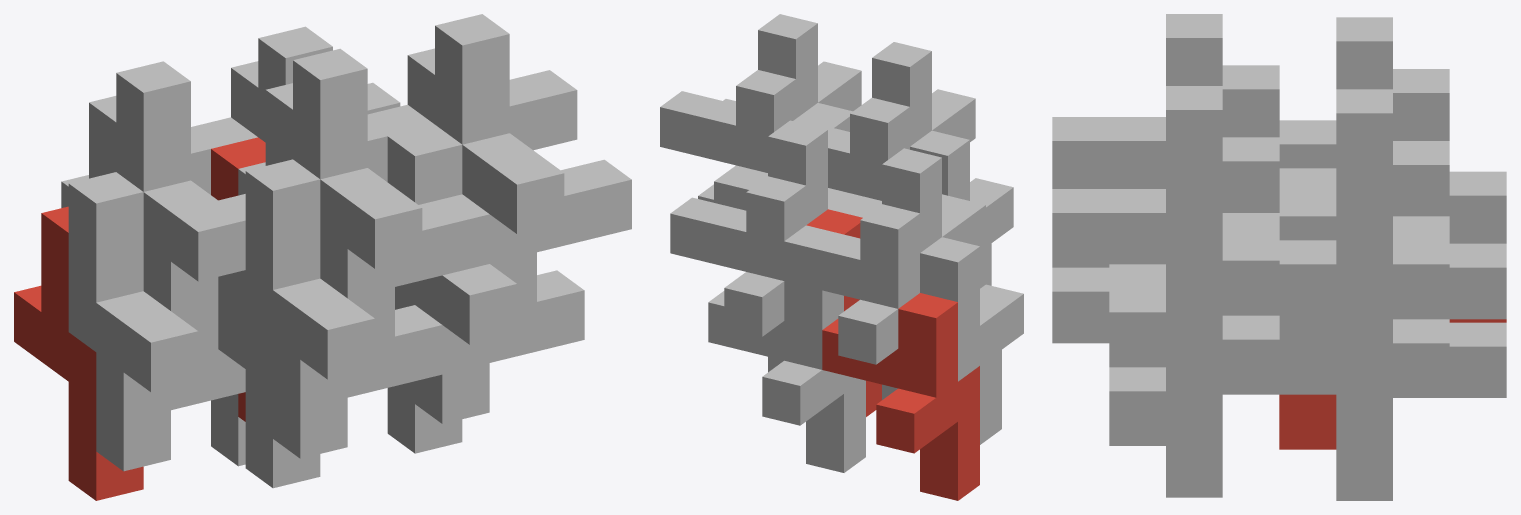
The model's file is tiling.obj.
3 views of the same model, side by side, from view 1: azimuth 30°, elevation 25°; view 2: azimuth 150°, elevation 25°; view 3: azimuth 270°, elevation 25° (orthographic). The views are drawn at different scales.
Visible parts, largest first — view 1: copy_2_domain_2, copy_2_domain_1, copy_2_domain_4, copy_2_domain_8, copy_2_domain_6, copy_2_domain_3, copy_1_domain_1, copy_1_domain_2, copy_1_domain_8, copy_1_domain_4, copy_1_domain_3, copy_1_domain_6 (+4 smaller); view 2: copy_1_domain_1, copy_1_domain_5, copy_1_domain_3, copy_1_domain_7, copy_1_domain_8, copy_2_domain_1, copy_1_domain_4, copy_2_domain_8, copy_2_domain_3, copy_2_domain_4, copy_2_domain_2, copy_2_domain_7 (+2 smaller); view 3: copy_2_domain_8, copy_1_domain_8, copy_1_domain_7, copy_2_domain_7, copy_1_domain_5, copy_2_domain_4, copy_1_domain_6, copy_2_domain_6, copy_1_domain_3, copy_2_domain_3, copy_1_domain_4, copy_2_domain_5.
Boxes of the visible parts, <box> form: copy_2_domain_2: <box>245,159,442,458</box>; copy_2_domain_1: <box>68,172,245,471</box>; copy_2_domain_4: <box>293,48,489,341</box>; copy_2_domain_8: <box>435,14,631,306</box>; copy_2_domain_6: <box>387,125,584,423</box>; copy_2_domain_3: <box>116,61,245,353</box>; copy_1_domain_1: <box>14,206,143,500</box>; copy_1_domain_2: <box>218,194,320,488</box>; copy_1_domain_8: <box>407,48,577,150</box>; copy_1_domain_4: <box>238,83,434,195</box>; copy_1_domain_3: <box>61,96,257,207</box>; copy_1_domain_6: <box>387,290,462,453</box>; copy_1_domain_1: <box>822,293,979,500</box>; copy_1_domain_5: <box>708,281,865,472</box>; copy_1_domain_3: <box>784,204,919,399</box>; copy_1_domain_7: <box>670,176,805,372</box>; copy_1_domain_8: <box>660,70,795,210</box>; copy_2_domain_1: <box>920,237,1023,444</box>; copy_1_domain_4: <box>793,97,909,217</box>; copy_2_domain_8: <box>723,14,861,118</box>; copy_2_domain_3: <box>882,148,985,252</box>; copy_2_domain_4: <box>872,42,975,146</box>; copy_2_domain_2: <box>910,130,1013,288</box>; copy_2_domain_7: <box>768,120,849,224</box>; copy_2_domain_8: <box>1052,86,1222,367</box>; copy_1_domain_8: <box>1166,137,1336,418</box>; copy_1_domain_7: <box>1336,141,1506,421</box>; copy_2_domain_7: <box>1279,89,1392,367</box>; copy_1_domain_5: <box>1336,319,1506,500</box>; copy_2_domain_4: <box>1052,14,1222,188</box>; copy_1_domain_6: <box>1166,315,1336,497</box>; copy_2_domain_6: <box>1052,267,1165,445</box>; copy_1_domain_3: <box>1393,69,1506,243</box>; copy_2_domain_3: <box>1279,17,1392,168</box>; copy_1_domain_4: <box>1222,65,1336,192</box>; copy_2_domain_5: <box>1279,394,1336,449</box>.
Size of the model in its own units: 9 by 9 by 8.
